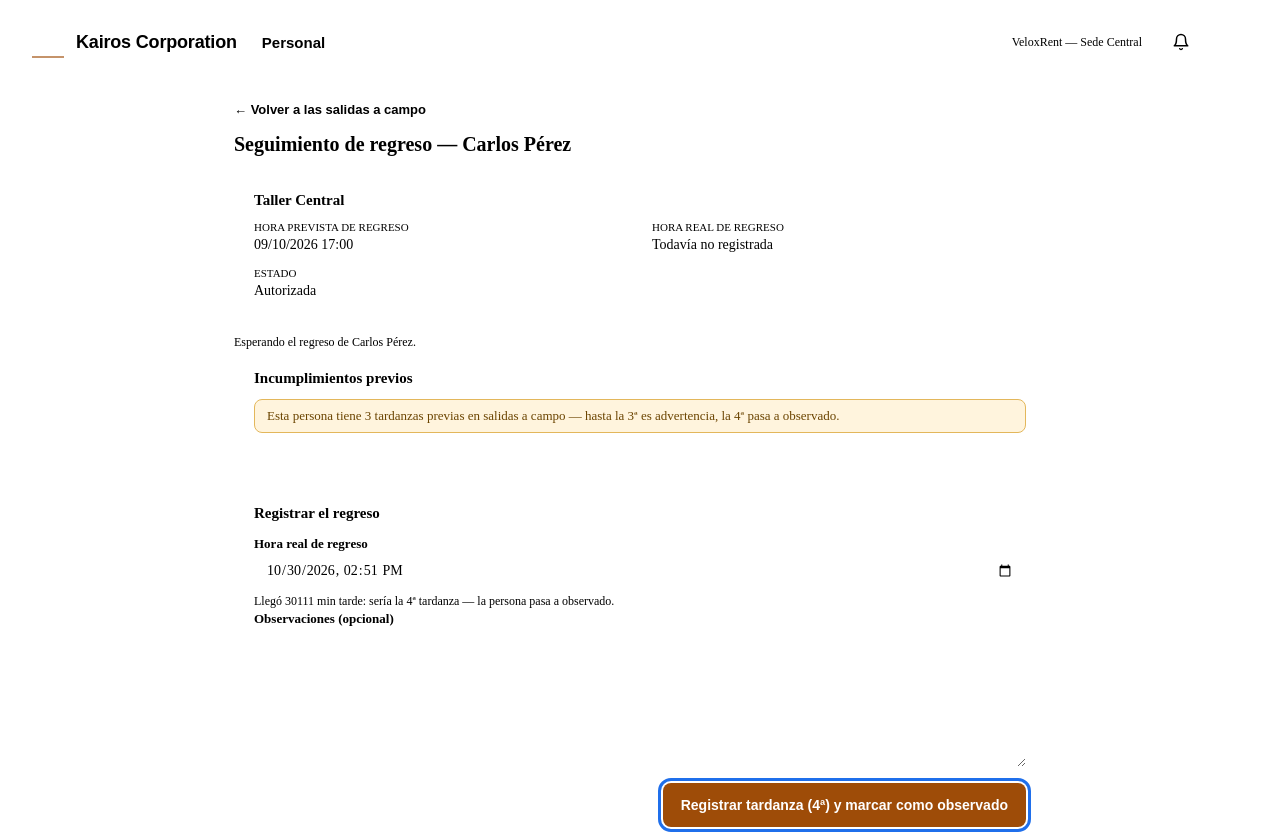
ReturnFollowUpScreen (ADP-08) › 4ª tardanza: pasa a observado
Replace the text in the field labelled "Hora real de regreso" with "2026-10-09T17:10" at (640, 571), box [254, 552, 1026, 590]
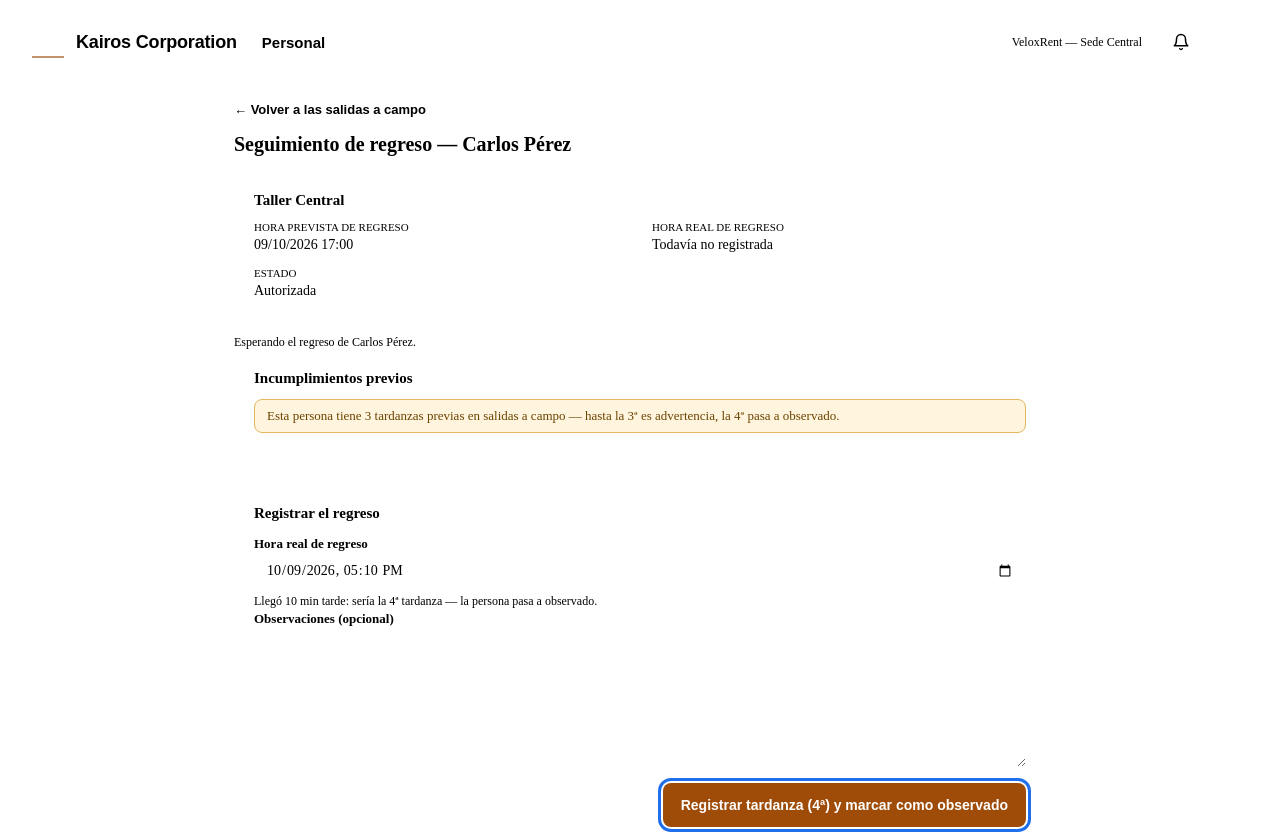
Click the button "Registrar tardanza (4ª) y marcar como observado".
click(844, 805)  # box [663, 783, 1026, 827]
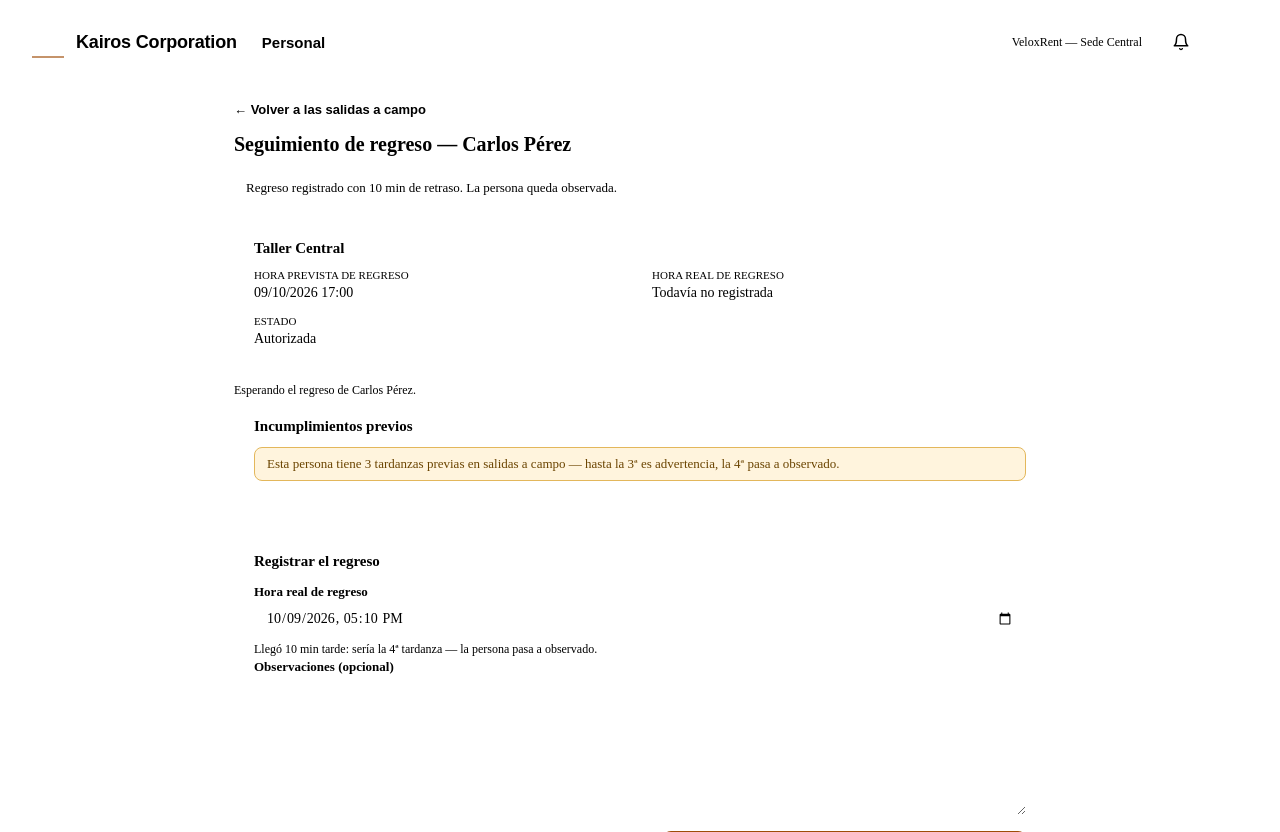
expect the text "Regreso registrado con 10 min de retraso. La persona queda observada." is shown: met, box [246, 180, 617, 195]
